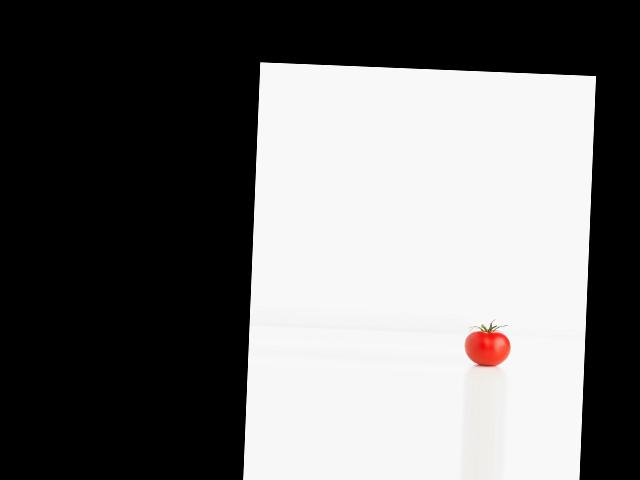tomato: (464, 330, 511, 366)
